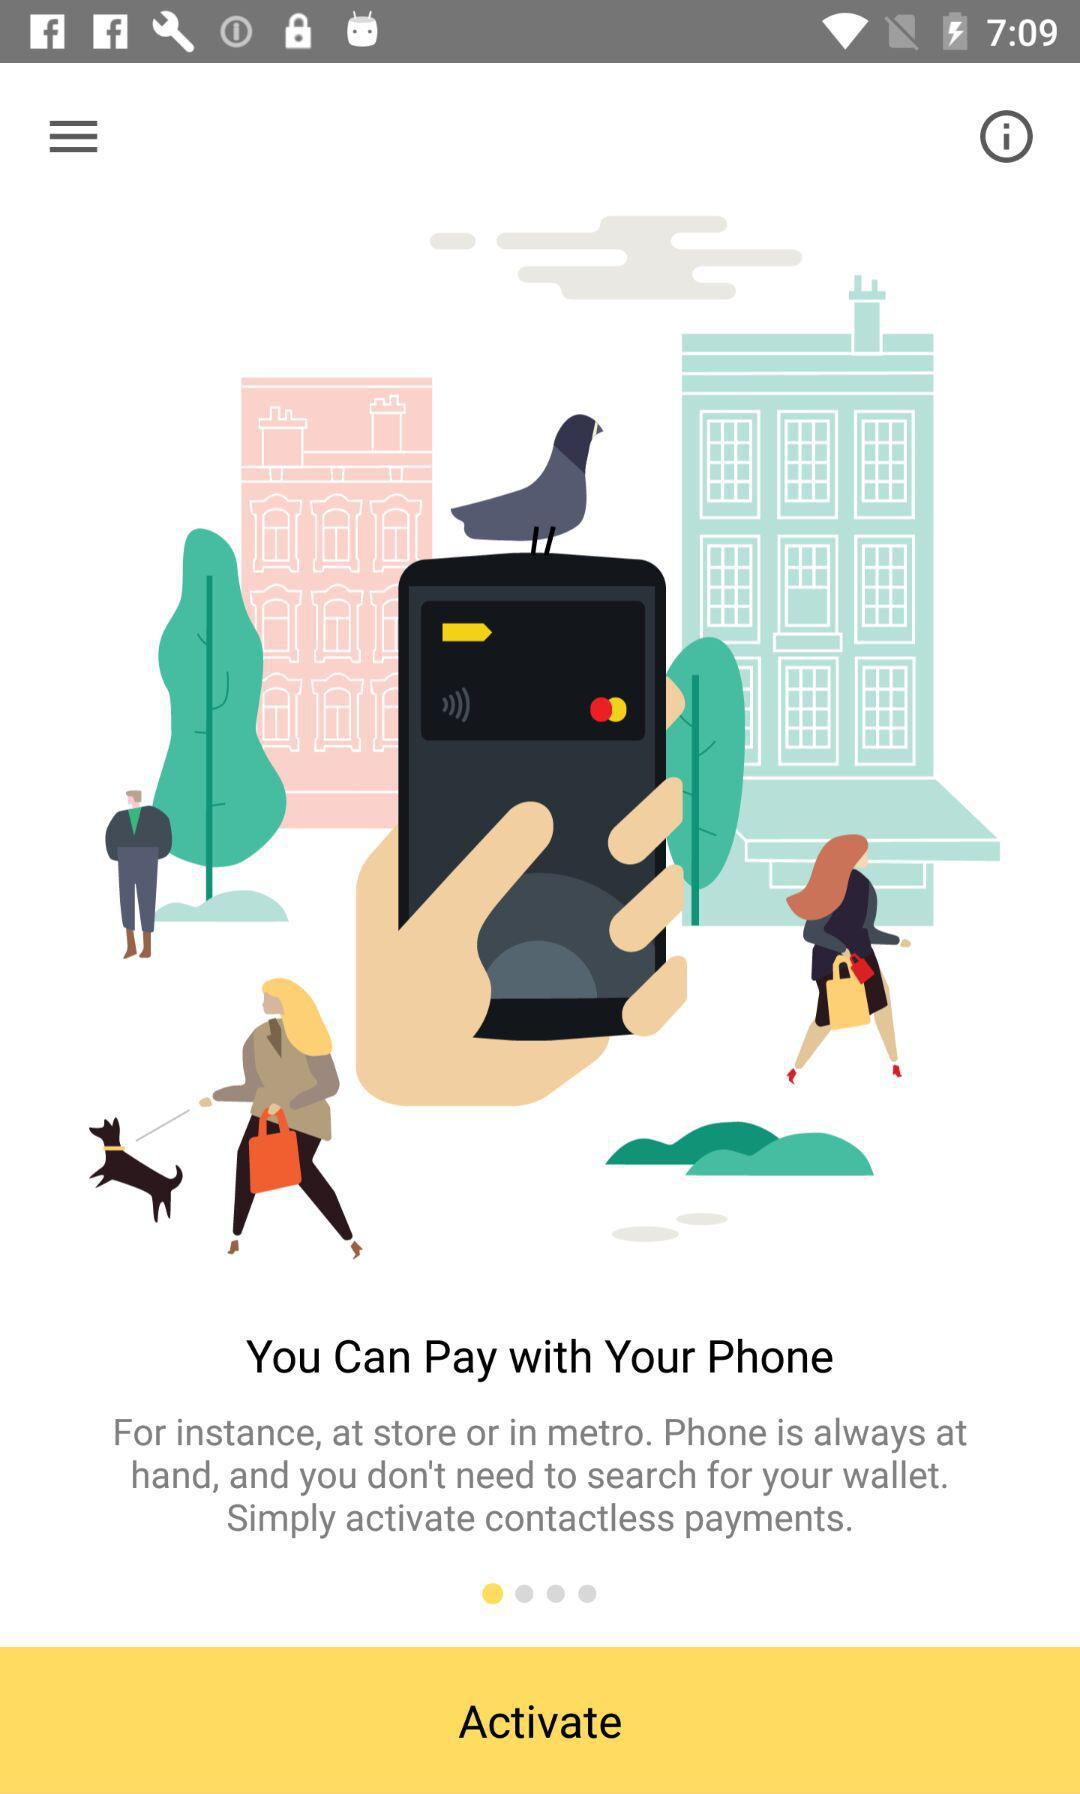Icon: (980, 110, 1034, 164), (49, 120, 99, 154)
Image: (88, 217, 1002, 1261)
PageIndicator: (480, 1583, 598, 1606)
Text: (115, 1417, 967, 1540), (247, 1338, 834, 1383)
TextButton: (1, 1647, 1080, 1794)
UpperTaskBar: (1, 1, 1080, 64)
